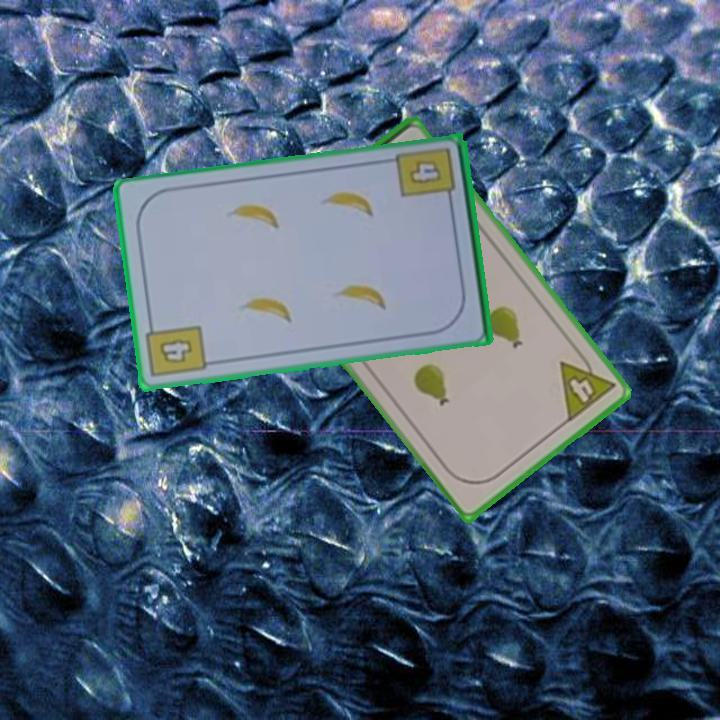4b: (393, 144, 459, 209), (143, 317, 209, 381)
4p: (556, 345, 619, 425)
